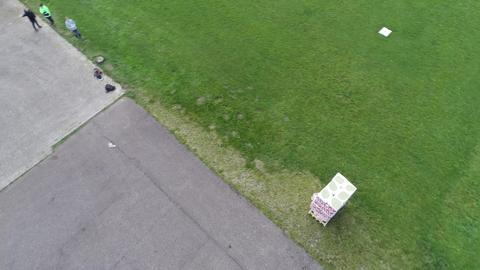RockwoolPallet: (310, 172, 358, 225)
